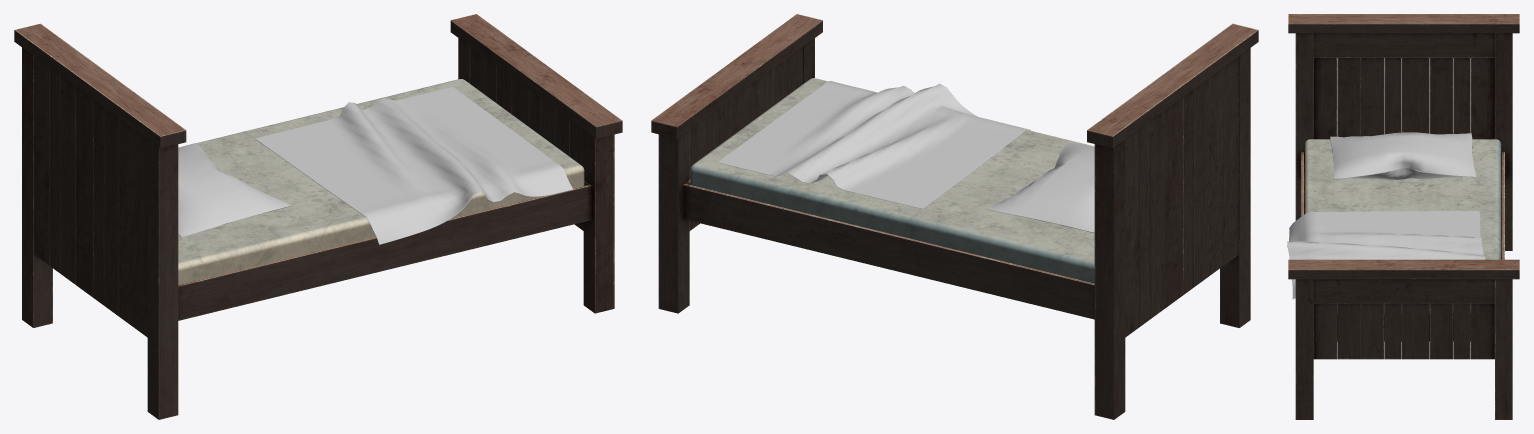
File: Bed.obj
The picture shows the model from 3 angles, left to right: view 1: azimuth 30°, elevation 25°; view 2: azimuth 150°, elevation 25°; view 3: azimuth 270°, elevation 25°; orthographic projection. The views are drawn at different scales.
Visible parts, largest first — view 1: Old_bed; view 2: Old_bed; view 3: Old_bed.
Part boxes in pixels (x1=…): Old_bed: x1=14, y1=14, x2=622, y2=419; Old_bed: x1=651, y1=14, x2=1258, y2=419; Old_bed: x1=1287, y1=14, x2=1519, y2=419.
Size of the model in its own units: 319 by 190 by 175.
2 materials, 1 textured.
